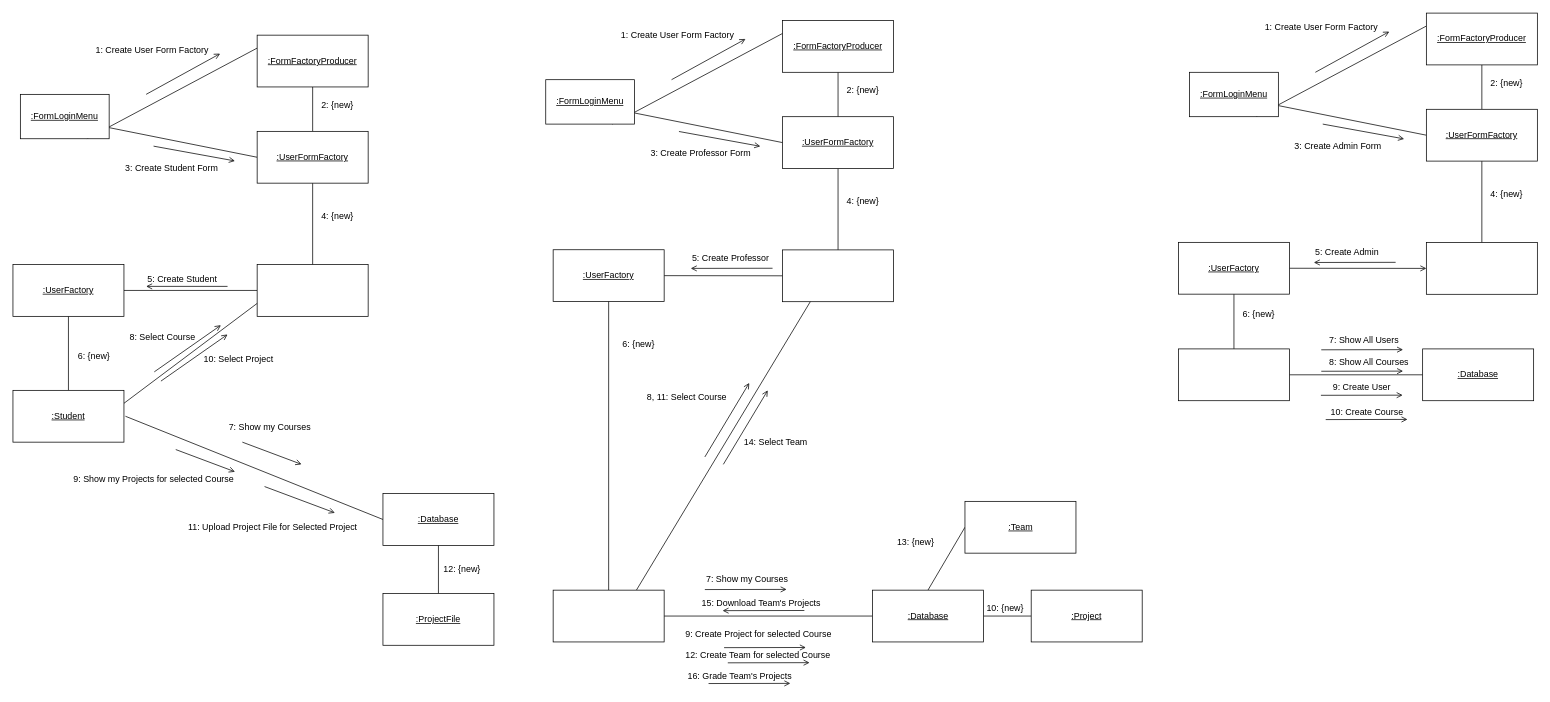
Image size: 1550x702. Some labels were removed from this diagram. The box of each missing label's shape, as (x1, y1, x2, y2) in pixels:
:Admin: (1178, 348, 1289, 401)
:FormAdmin: (1426, 242, 1537, 294)
:FormProfessor: (782, 249, 894, 302)
:FormStudent: (256, 264, 368, 316)
:Professor: (552, 589, 664, 642)
